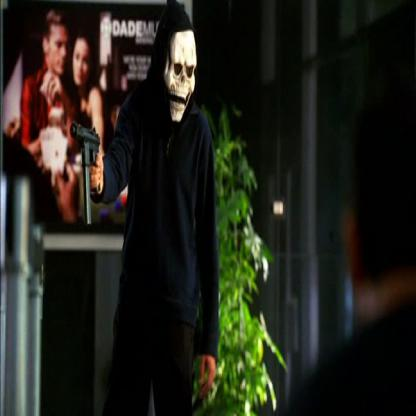Gun: (67, 113, 103, 240)
